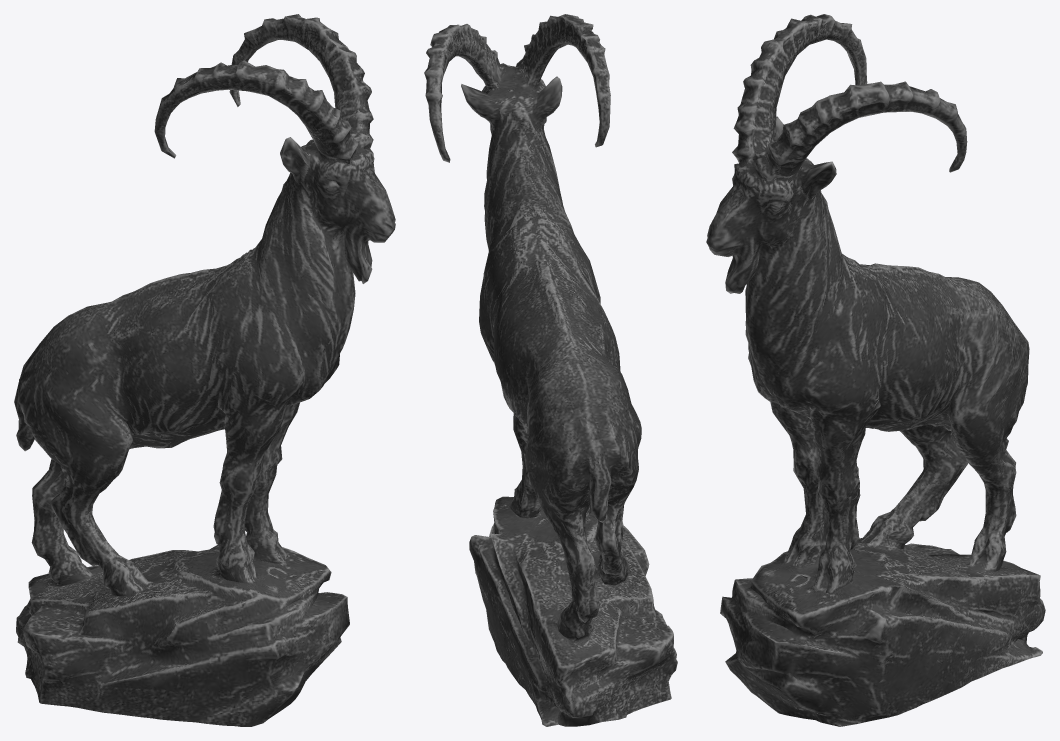
Rendered from theappxr_Statua_Ibex_NODRACO_standard.glb.
3 views of the same model, side by side, from view 1: azimuth 30°, elevation 25°; view 2: azimuth 150°, elevation 25°; view 3: azimuth 270°, elevation 25° (orthographic). The views are drawn at different scales.
Parts seen in each view (by area): view 1: Statua_IBEX; view 2: Statua_IBEX; view 3: Statua_IBEX.
Boxes of the visible parts, x1,y1,x2,y2 form: Statua_IBEX: (14,14,395,726); Statua_IBEX: (424,14,677,726); Statua_IBEX: (706,14,1045,726).
Size of the model in its own units: 0.9087 by 2 by 0.9096.
Materials: 1 (1 with a texture image).
